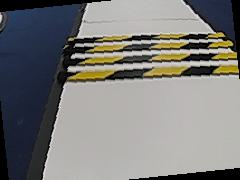bump: (56, 27, 239, 88)
